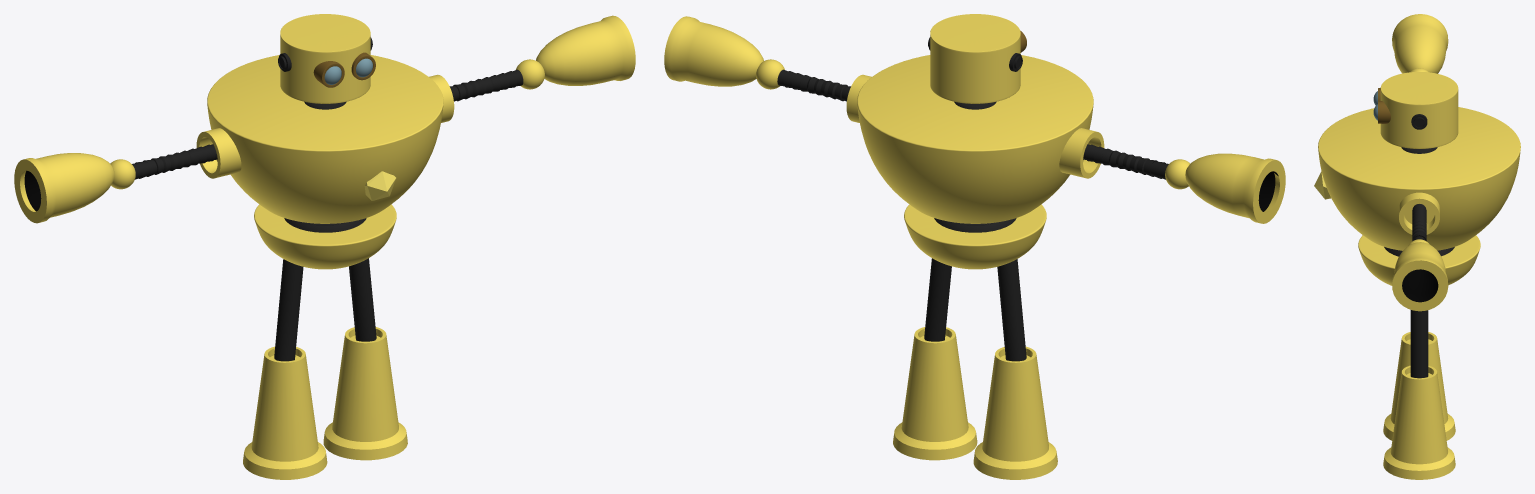
Rendered from yellow.fbx.
3 views of the same model, side by side, from view 1: azimuth 30°, elevation 25°; view 2: azimuth 150°, elevation 25°; view 3: azimuth 270°, elevation 25° (orthographic). The views are drawn at different scales.
Visible parts, largest first — view 1: body-main, Cylinder.001, Sphere.001, head, base, Cylinder, hand, shoulders, Sphere, eyes, Icosphere, base-joint; view 2: body-main, Cylinder.001, Sphere.001, head, base, Cylinder, hand, shoulders, Sphere, base-joint; view 3: body-main, Cylinder.001, Sphere.001, head, base, Cylinder, shoulders, hand, eyes.
Boxes of the visible parts, x1=… form: body-main: x1=207, y1=55, x2=443, y2=223; Cylinder.001: x1=243, y1=327, x2=407, y2=479; Sphere.001: x1=14, y1=15, x2=635, y2=223; head: x1=280, y1=14, x2=370, y2=103; base: x1=254, y1=204, x2=396, y2=269; Cylinder: x1=274, y1=258, x2=376, y2=361; hand: x1=132, y1=69, x2=523, y2=179; shoulders: x1=196, y1=74, x2=454, y2=178; Sphere: x1=110, y1=59, x2=544, y2=189; eyes: x1=313, y1=52, x2=375, y2=87; Icosphere: x1=364, y1=171, x2=395, y2=200; base-joint: x1=284, y1=218, x2=366, y2=232; body-main: x1=857, y1=55, x2=1093, y2=223; Cylinder.001: x1=893, y1=327, x2=1057, y2=479; Sphere.001: x1=664, y1=16, x2=1285, y2=223; head: x1=930, y1=14, x2=1020, y2=103; base: x1=904, y1=204, x2=1046, y2=269; Cylinder: x1=924, y1=258, x2=1026, y2=361; hand: x1=777, y1=69, x2=1168, y2=179; shoulders: x1=846, y1=74, x2=1104, y2=178; Sphere: x1=756, y1=59, x2=1190, y2=189; base-joint: x1=934, y1=218, x2=1016, y2=232; body-main: x1=1318, y1=107, x2=1520, y2=250; Cylinder.001: x1=1383, y1=332, x2=1455, y2=479; Sphere.001: x1=1392, y1=14, x2=1448, y2=311; head: x1=1380, y1=72, x2=1458, y2=148; base: x1=1358, y1=235, x2=1480, y2=285; Cylinder: x1=1410, y1=310, x2=1428, y2=378; shoulders: x1=1399, y1=192, x2=1439, y2=234; hand: x1=1412, y1=204, x2=1426, y2=241; eyes: x1=1373, y1=88, x2=1390, y2=123.
Bounding box in the file's own units: 560 × 381 × 199.
